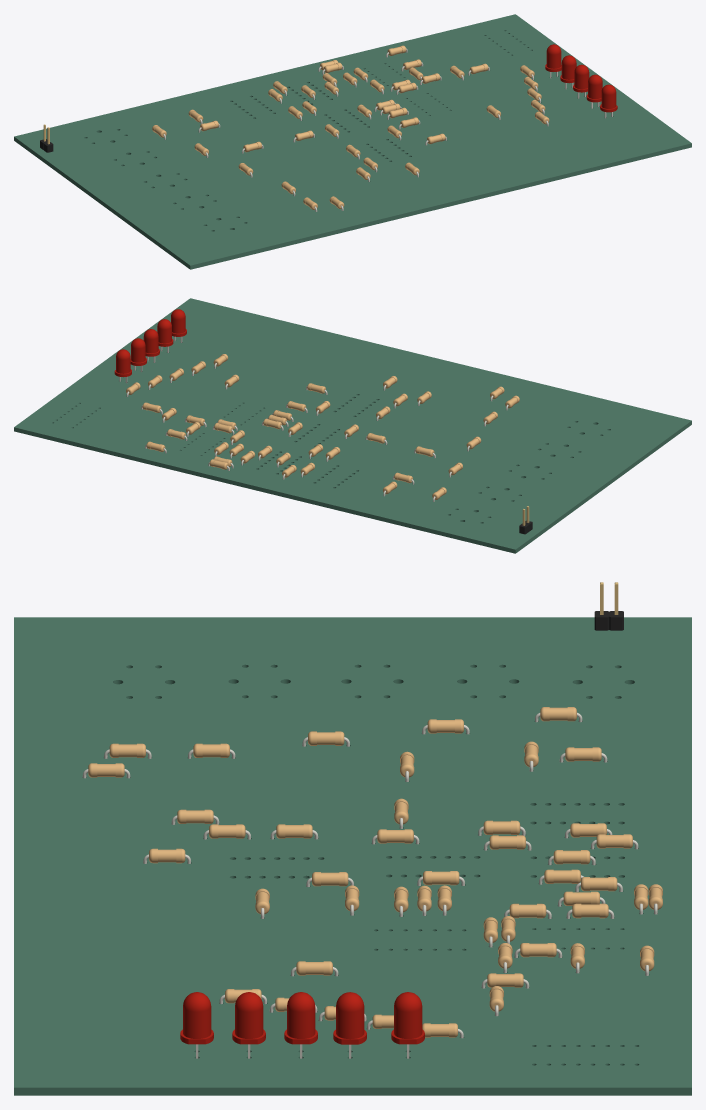
The model's file is web.glb.
3 renders of one model, top to bottom at view 1: azimuth 30°, elevation 25°; view 2: azimuth 150°, elevation 25°; view 3: azimuth 270°, elevation 25°, orthographic. The views are drawn at different scales.
Visible parts, largest first — view 1: =>[0:1:1:8], =>[0:1:1:5] (×5); view 2: =>[0:1:1:8], =>[0:1:1:5] (×5); view 3: =>[0:1:1:8], =>[0:1:1:5] (×5), =>[0:1:1:7].
Boxes of the visible parts, bbox=[...] form: =>[0:1:1:8]: bbox=[14, 14, 691, 269]; =>[0:1:1:5] (×5): bbox=[545, 44, 617, 118]; =>[0:1:1:8]: bbox=[14, 298, 691, 553]; =>[0:1:1:5] (×5): bbox=[114, 309, 186, 383]; =>[0:1:1:8]: bbox=[14, 617, 691, 1095]; =>[0:1:1:5] (×5): bbox=[180, 992, 424, 1058]; =>[0:1:1:7]: bbox=[594, 582, 623, 630].
Size of the model in its own units: 0.1925 by 0.0146 by 0.1173.
